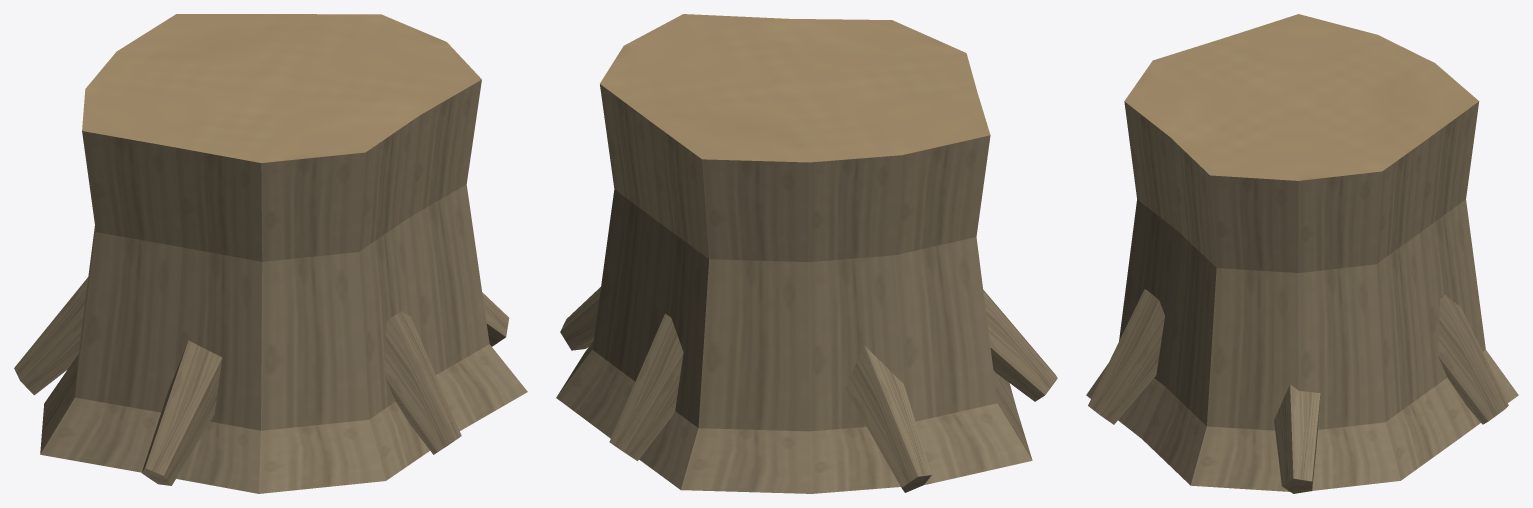
Rendered from showcase_stump_seat.glb.
The picture shows the model from 3 angles, left to right: view 1: azimuth 30°, elevation 25°; view 2: azimuth 150°, elevation 25°; view 3: azimuth 270°, elevation 25°; orthographic projection. The views are drawn at different scales.
Visible parts, largest first — view 1: outdoor_showcase_stump_seat; view 2: outdoor_showcase_stump_seat; view 3: outdoor_showcase_stump_seat.
Boxes of the visible parts, bbox=[...] form: outdoor_showcase_stump_seat: bbox=[14, 14, 527, 493]; outdoor_showcase_stump_seat: bbox=[556, 14, 1057, 493]; outdoor_showcase_stump_seat: bbox=[1086, 14, 1518, 493].
Bounding box in the file's own units: 0.7 × 0.45 × 0.6.
Materials: 2 (2 with a texture image).
